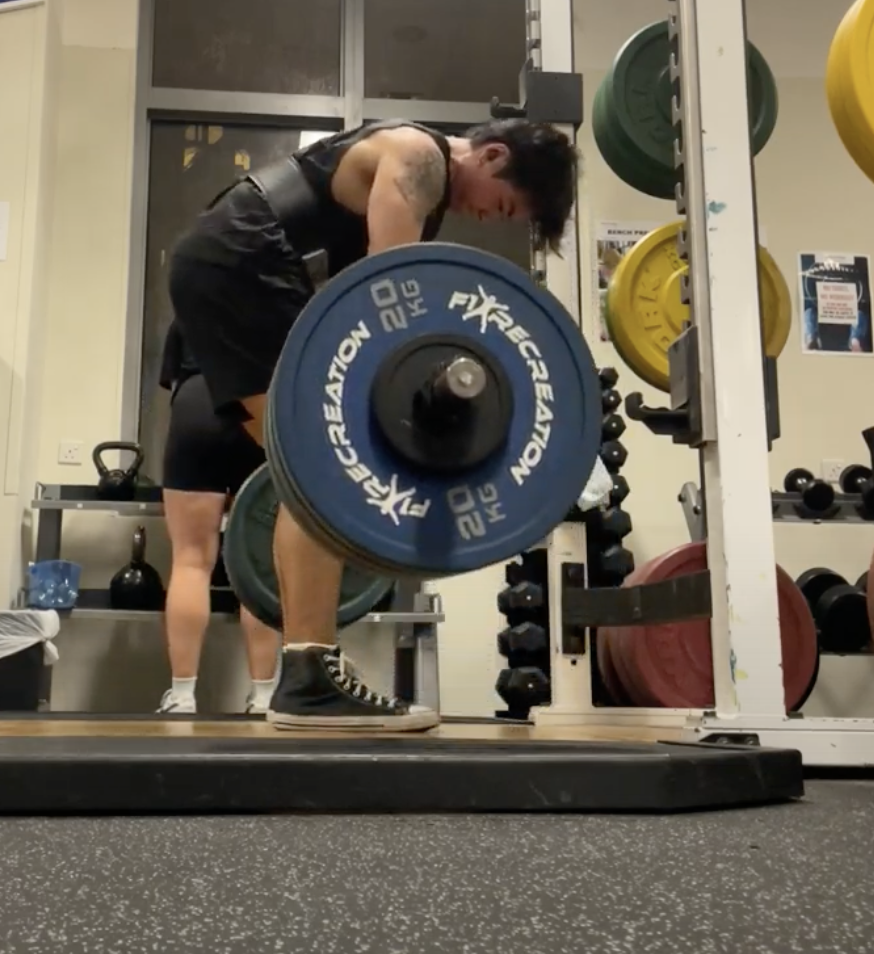barbell: (452, 357, 489, 401)
